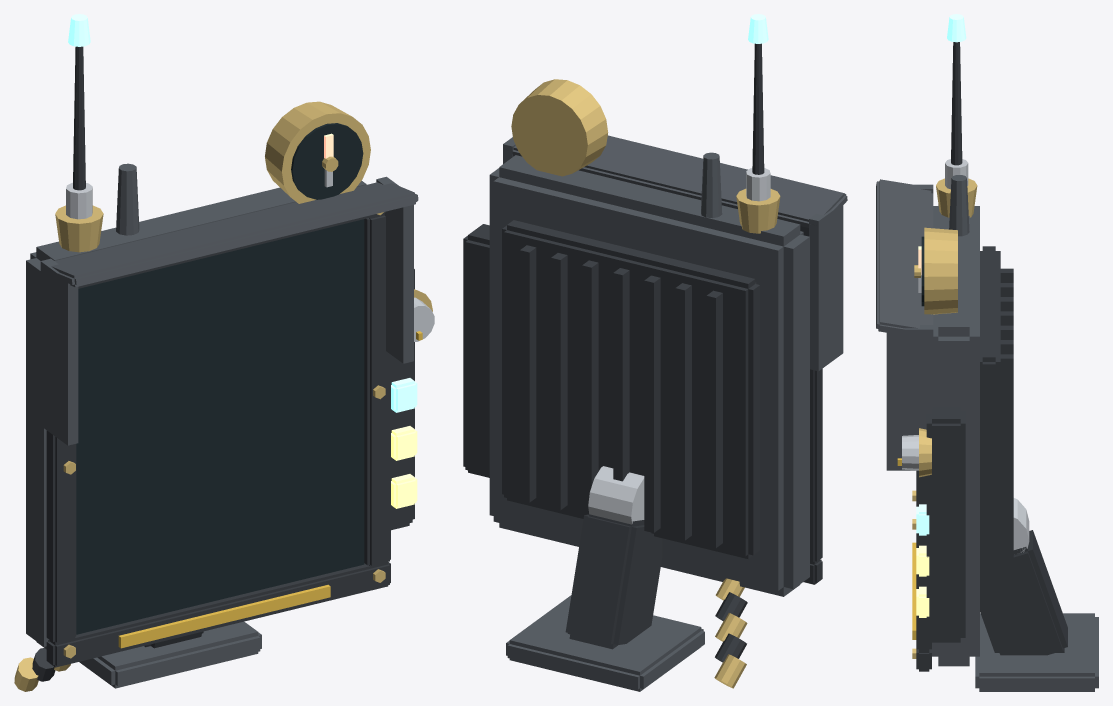
Rendered from cockpit_navigator.glb.
3 renders of one model, left to right at view 1: azimuth 30°, elevation 25°; view 2: azimuth 150°, elevation 25°; view 3: azimuth 270°, elevation 25°, orthographic. The views are drawn at different scales.
Parts seen in each view (by area): view 1: NavScreenBacking, NavHousingBody, NavSunHoodTop, NavBezelRight, NavBezelBot, NavSunHoodL, NavBezelLeft, NavMountFoot, NavSunHoodR, NavCompassHousing, NavCompassDial, NavHazardStripe (+11 smaller); view 2: NavHousingBody, NavRearHeatSink, NavMountArm, NavMountFoot, NavSunHoodTop, NavCompassHousing, NavSidePodR, NavSunHoodL, NavSinkFin_-1, NavSinkFin_-3, NavSinkFin_2, NavSinkFin_3 (+10 smaller); view 3: NavHousingBody, NavSidePodR, NavRearHeatSink, NavSunHoodTop, NavMountFoot, NavMountArm, NavSunHoodR, NavSinkFin_3, NavCompassHousing, NavAntennaRod, NavStubAntenna, NavBezelRight (+10 smaller).
Boxes of the visible parts, x1,y1,x2,y2 form: NavScreenBacking: (76, 219, 364, 634); NavHousingBody: (26, 180, 366, 649); NavSunHoodTop: (51, 182, 418, 287); NavBezelRight: (364, 213, 390, 567); NavBezelBot: (46, 562, 390, 667); NavSunHoodL: (40, 258, 78, 445); NavBezelLeft: (46, 430, 76, 643); NavMountFoot: (79, 621, 261, 688); NavSunHoodR: (376, 176, 413, 363); NavCompassHousing: (265, 101, 370, 203); NavCompassDial: (291, 123, 363, 199); NavHazardStripe: (118, 584, 330, 648); NavHousingBody: (489, 155, 809, 596); NavRearHeatSink: (502, 220, 759, 559); NavMountArm: (565, 514, 662, 649); NavMountFoot: (506, 595, 704, 691); NavSunHoodTop: (512, 135, 847, 227); NavCompassHousing: (511, 79, 608, 176); NavSidePodR: (463, 224, 489, 477); NavSunHoodL: (809, 204, 843, 371); NavSinkFin_-1: (644, 275, 660, 532); NavSinkFin_-3: (706, 290, 722, 548); NavSinkFin_2: (551, 253, 567, 510); NavSinkFin_3: (520, 245, 536, 502); NavHousingBody: (932, 204, 979, 666); NavSidePodR: (926, 407, 965, 642); NavRearHeatSink: (980, 246, 1000, 616); NavSunHoodTop: (876, 179, 933, 337); NavMountFoot: (975, 613, 1098, 691); NavMountArm: (980, 530, 1067, 655); NavSunHoodR: (886, 325, 933, 470); NavSinkFin_3: (1000, 354, 1013, 593); NavCompassHousing: (924, 227, 957, 314); NavAntennaRod: (951, 42, 962, 165); NavStubAntenna: (949, 175, 969, 236); NavBezelRight: (916, 470, 931, 651).
Bounding box in the file's own units: 0.293 × 0.5117 × 0.1715.
